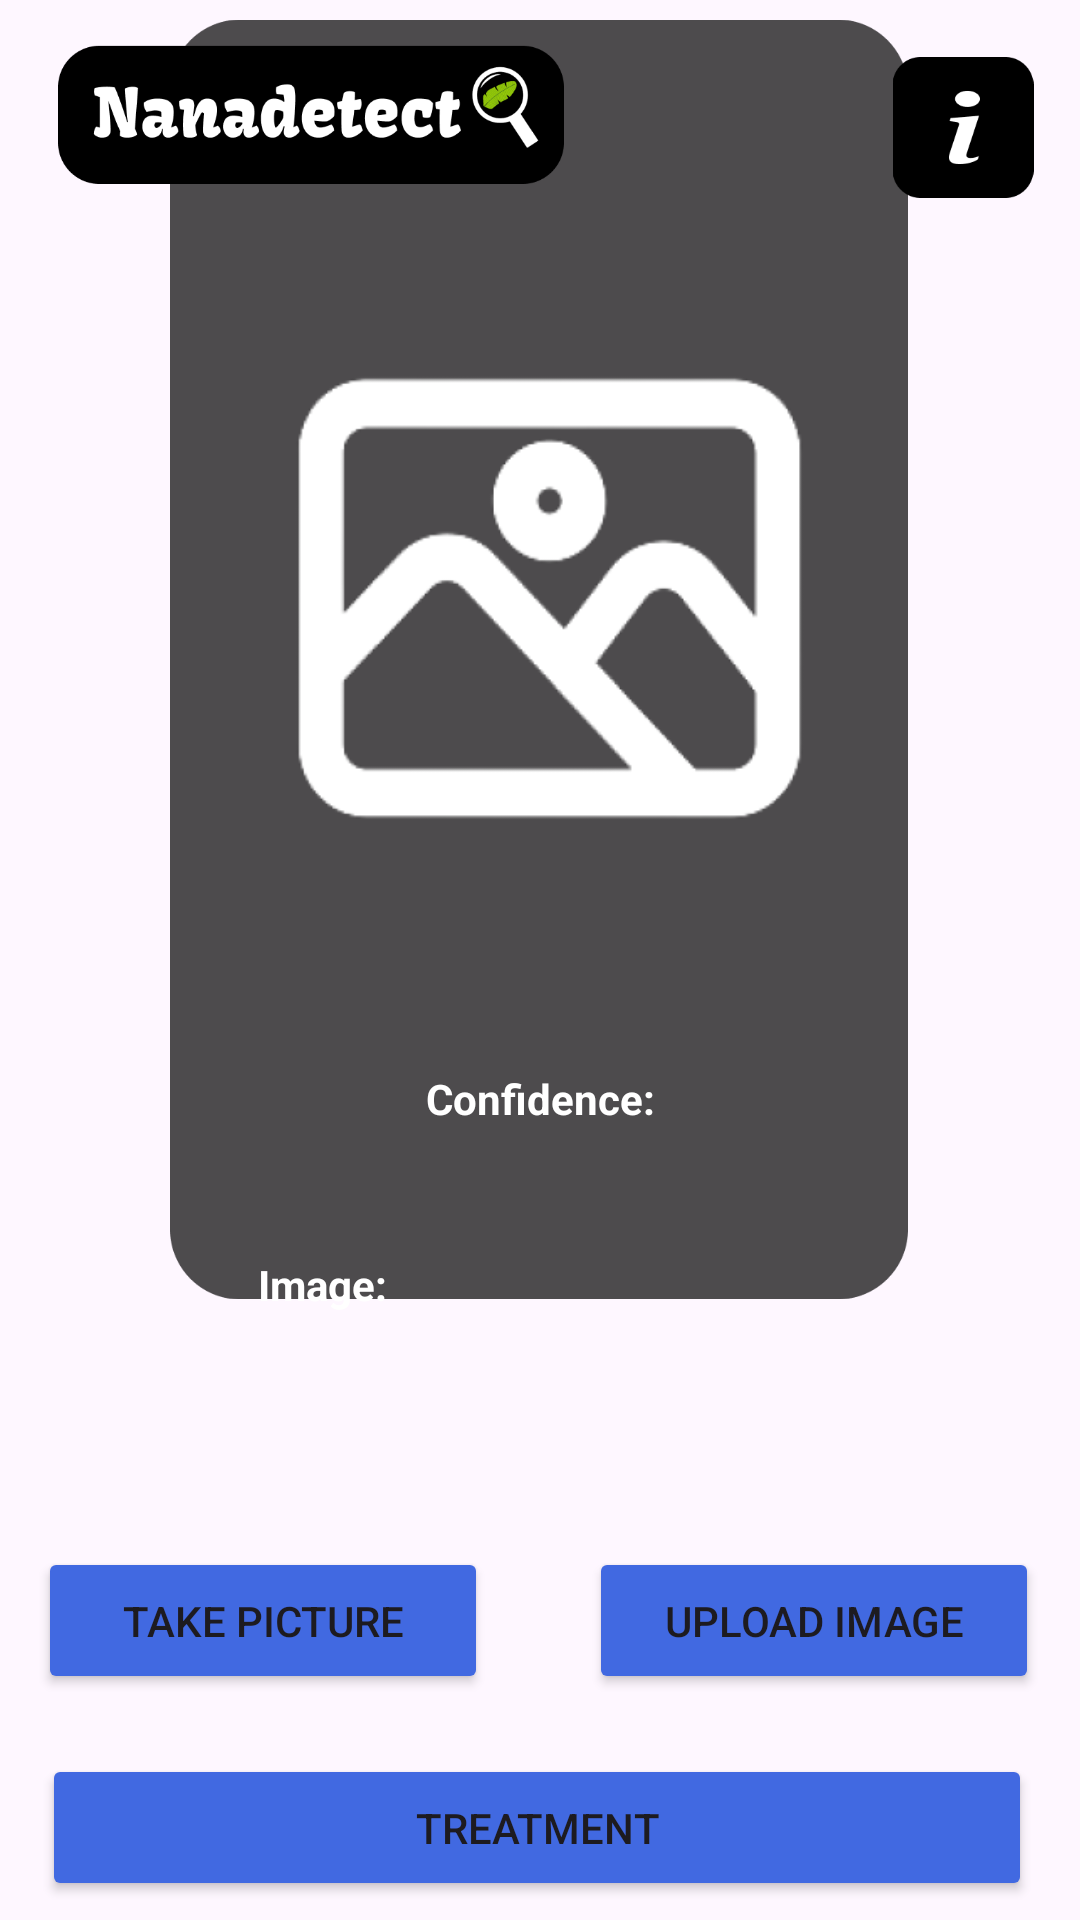

Screen size 1080w x 1920h. Icon name, then its center in pixels as [x,y]:
aidicon: [961,127]
